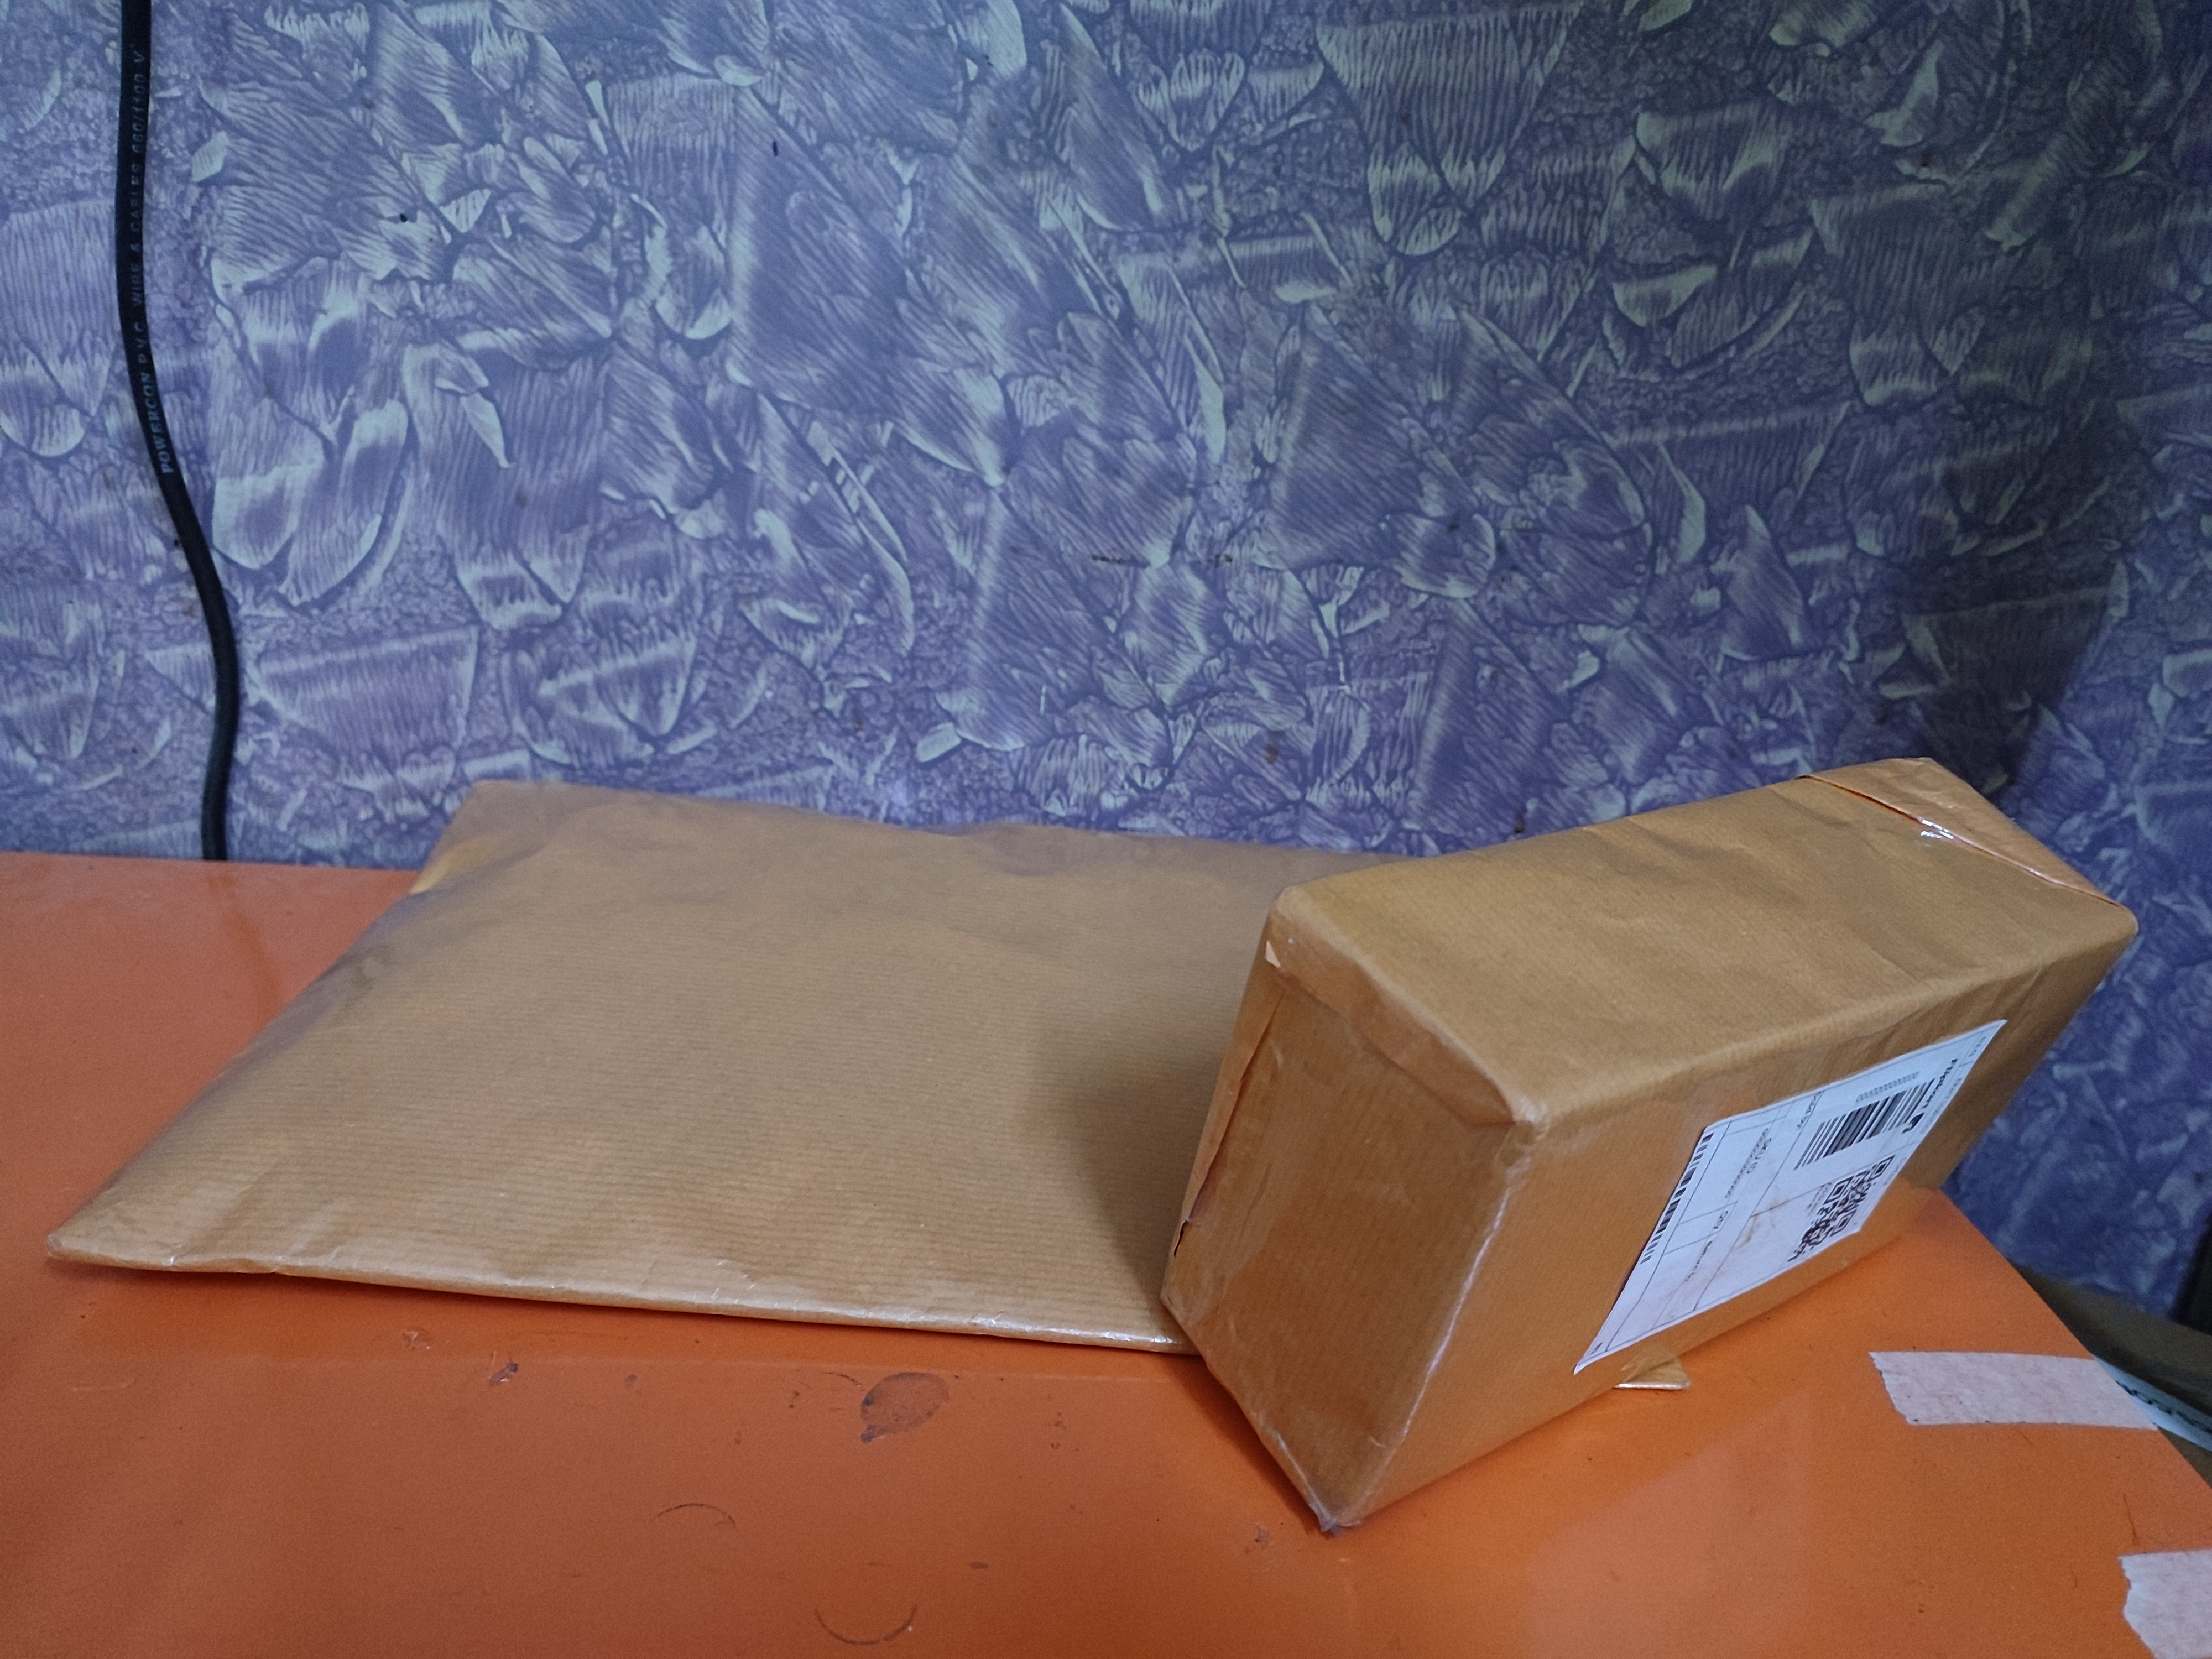Box: (42, 708, 1693, 1427), (1123, 692, 2127, 1554)
